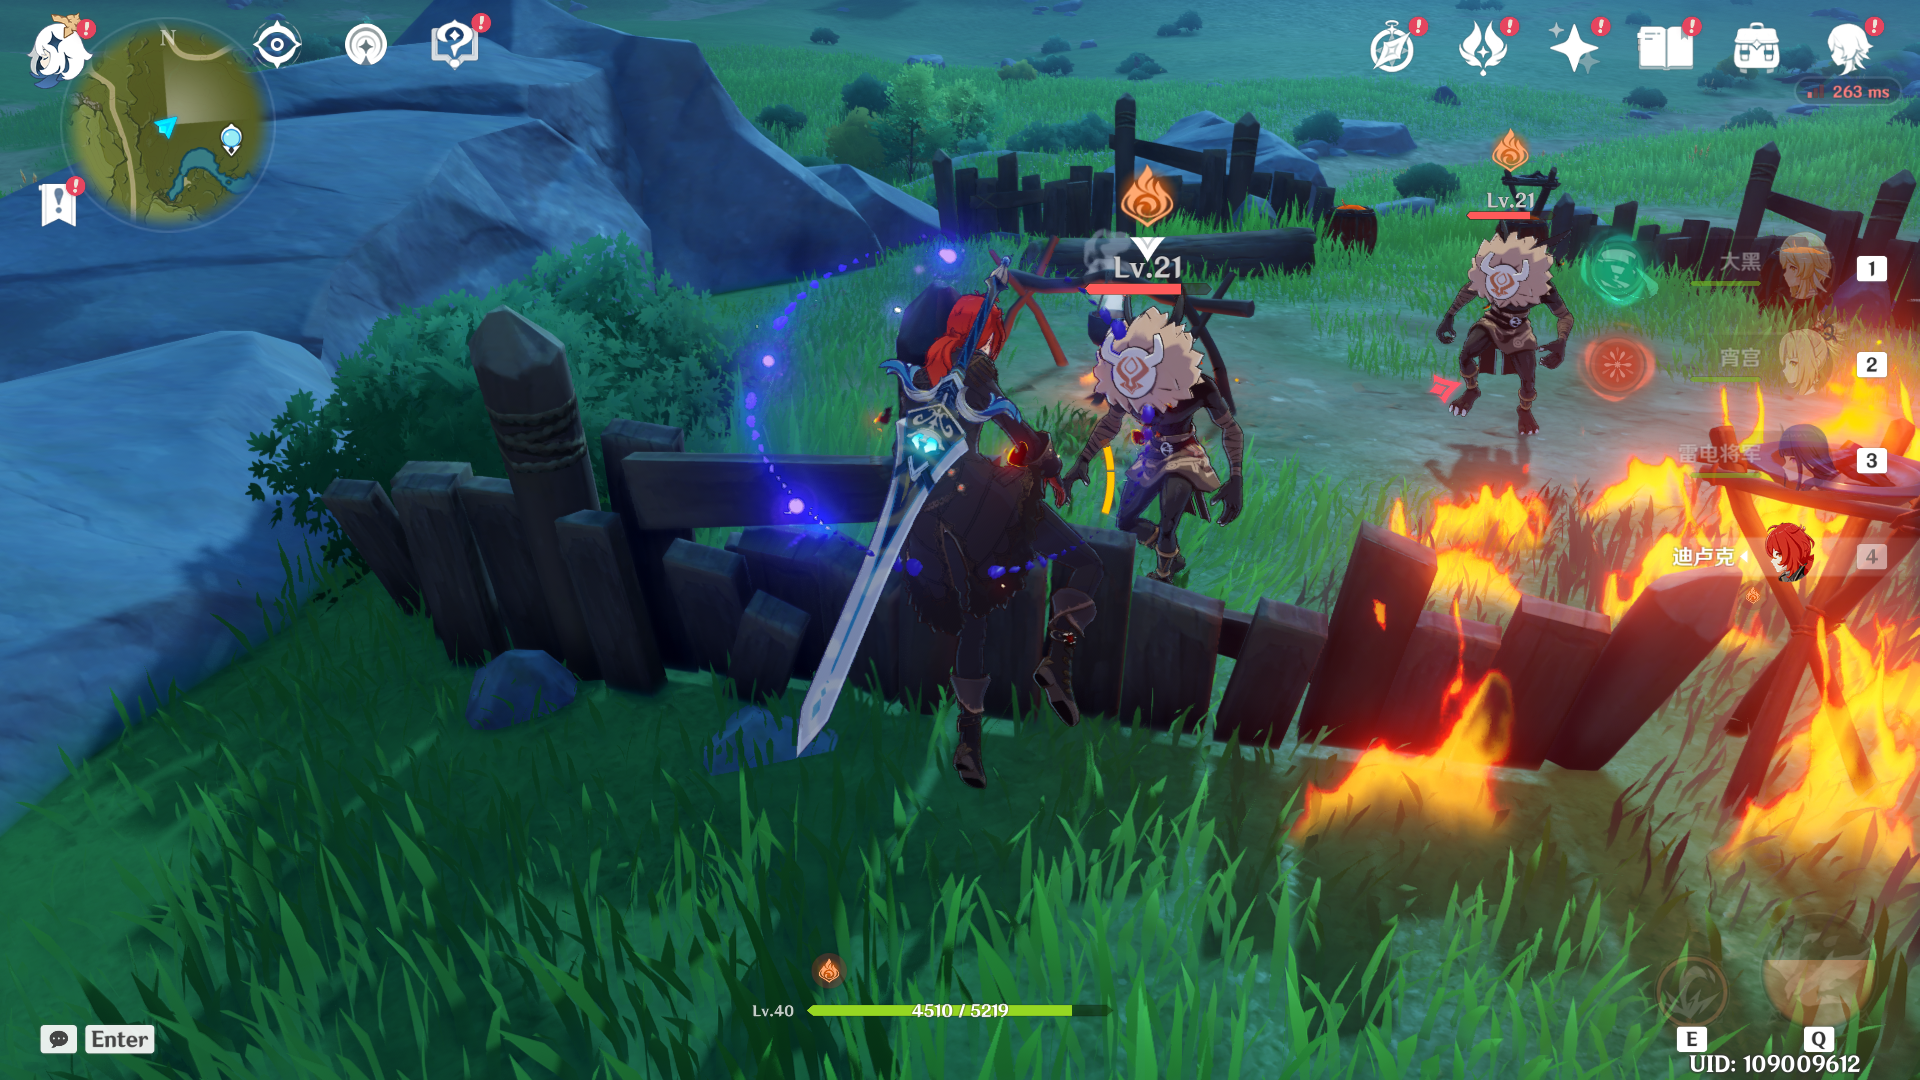character: (779, 266, 1098, 802)
hili: (1059, 295, 1273, 607), (1420, 223, 1611, 459)
